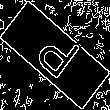P_SW: (27, 24, 83, 86)
